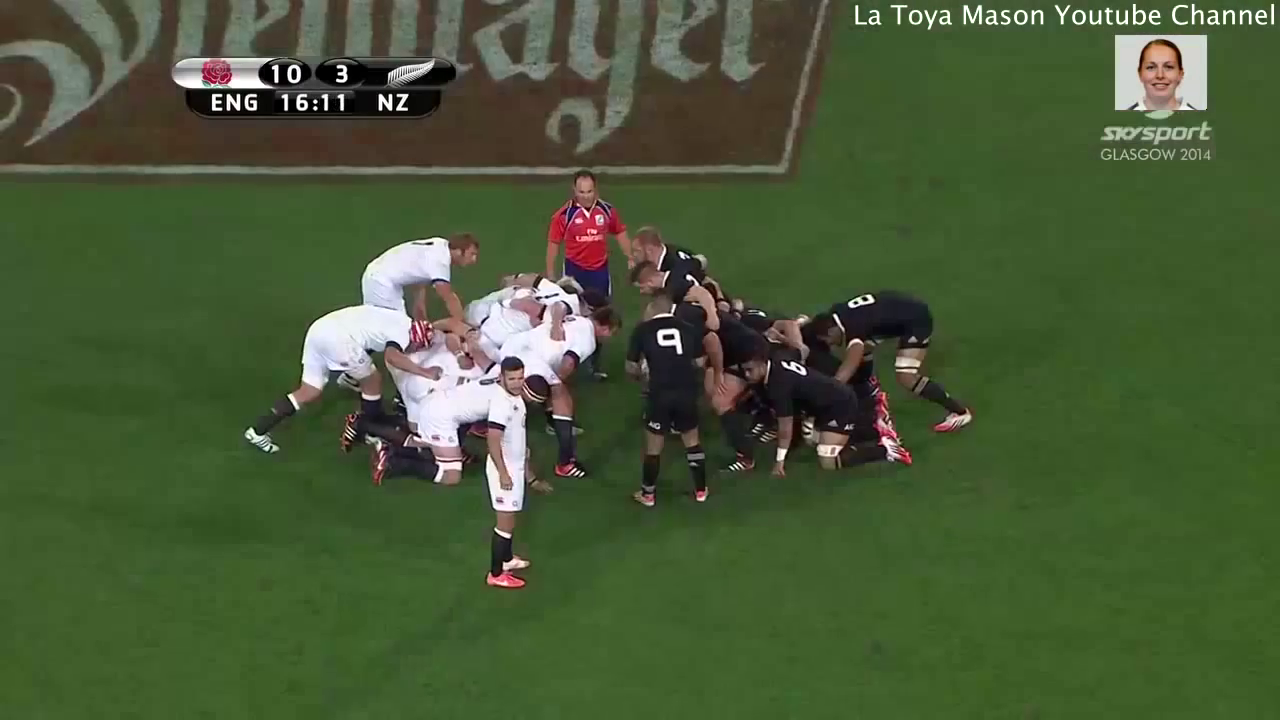player: (228, 291, 451, 464), (803, 277, 983, 441), (483, 298, 627, 494), (731, 344, 922, 484), (361, 359, 557, 489), (539, 157, 640, 394), (616, 284, 720, 512), (472, 351, 549, 604), (350, 213, 476, 327), (611, 243, 718, 334), (618, 216, 705, 268)
scrum: (204, 218, 989, 501)
